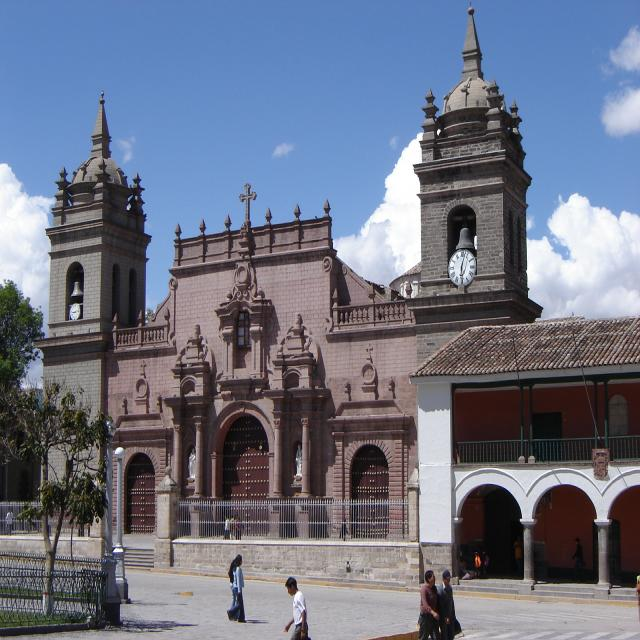6: (383, 23, 544, 544), (33, 77, 148, 540)
CAMPANARIO: (407, 118, 537, 309), (29, 185, 150, 345)
CUPULA: (0, 9, 639, 606)
PORTADA CENTRAL: (421, 73, 534, 138), (46, 149, 148, 216)
SIMETRIA COLONIAL: (170, 330, 318, 548)
colonial-architecture-: (0, 19, 520, 568)
